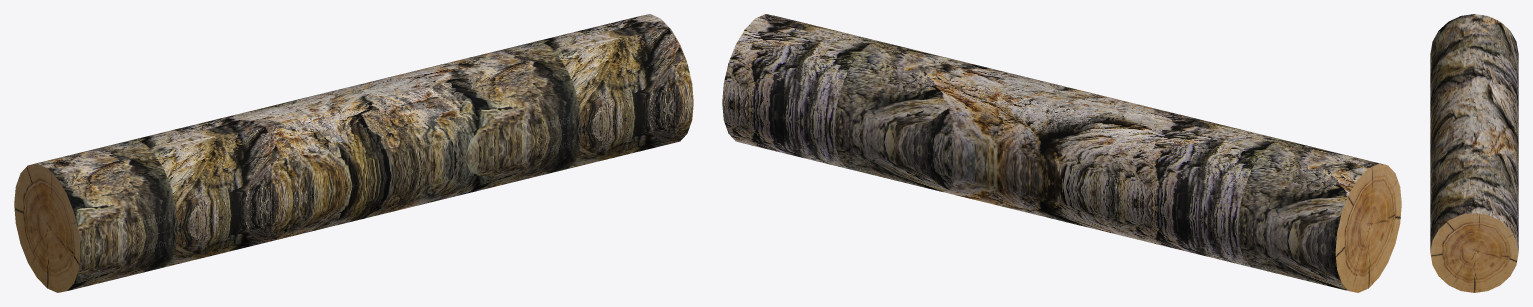
The model's file is log1.fbx.
3 renders of one model, left to right at view 1: azimuth 30°, elevation 25°; view 2: azimuth 150°, elevation 25°; view 3: azimuth 270°, elevation 25°, orthographic. The views are drawn at different scales.
Visible parts, largest first — view 1: pCylinder2; view 2: pCylinder2; view 3: pCylinder2.
Part boxes in pixels (x1=…): pCylinder2: x1=14, y1=14, x2=693, y2=292; pCylinder2: x1=722, y1=14, x2=1401, y2=292; pCylinder2: x1=1430, y1=14, x2=1518, y2=292.
Size of the model in its own units: 6.93 by 1.3 by 1.3.
